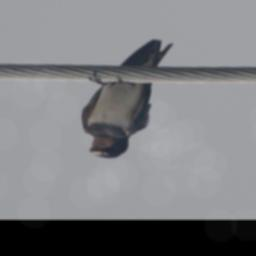Swallow: (81, 39, 174, 159)
